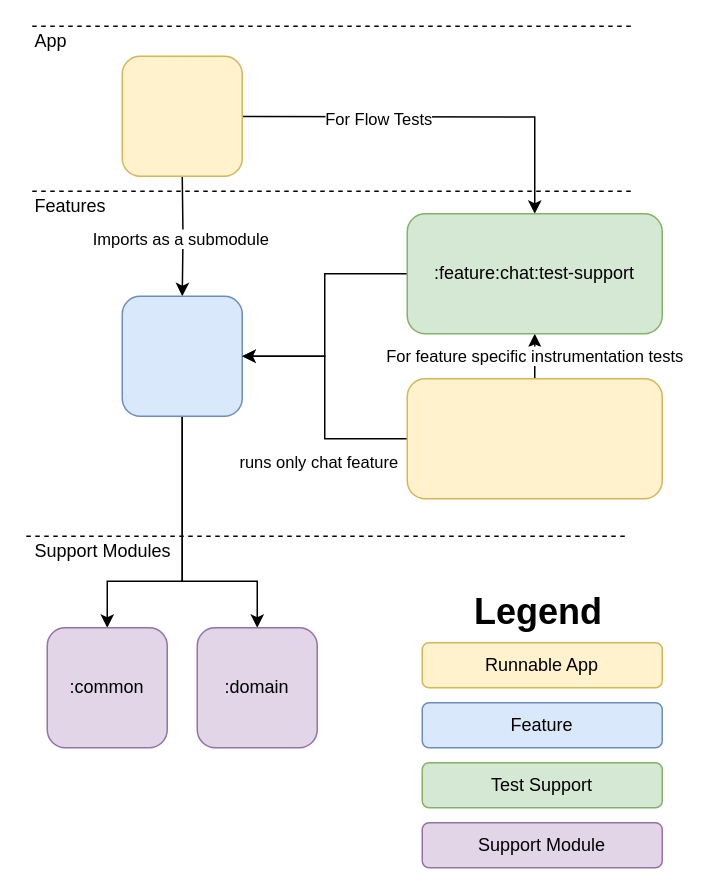
Some shapes in this 710 by 894 pixel diagram are drawn without their labels. The centre of each missing label's shape, as x and y in pixels:
:app: the point at 181,115
:feature:chat: the point at 181,355
:feature:chat:feature-runner: the point at 534,438
